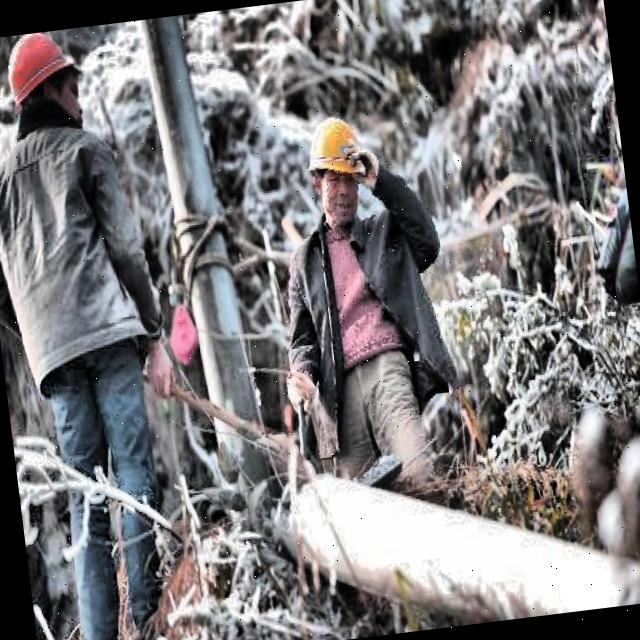helmet: (0, 27, 92, 142), (298, 105, 376, 231)
